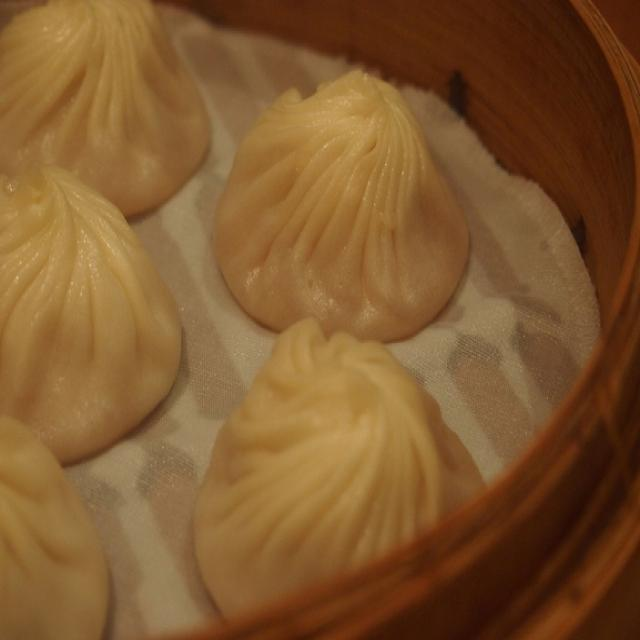带馅早点: (11, 18, 603, 621)
